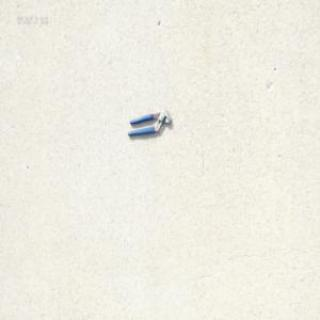Pliertrack_idkeyframe: (126, 107, 171, 136)
